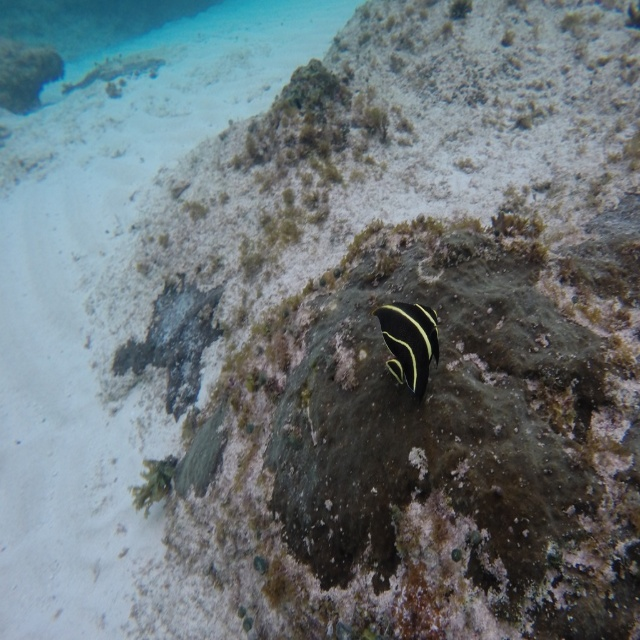Fish: (384, 302, 439, 401)
